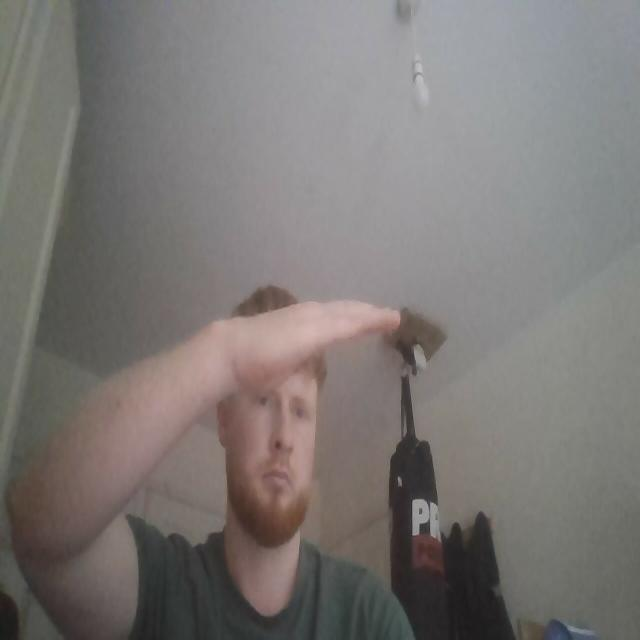papper: (206, 298, 402, 394)
